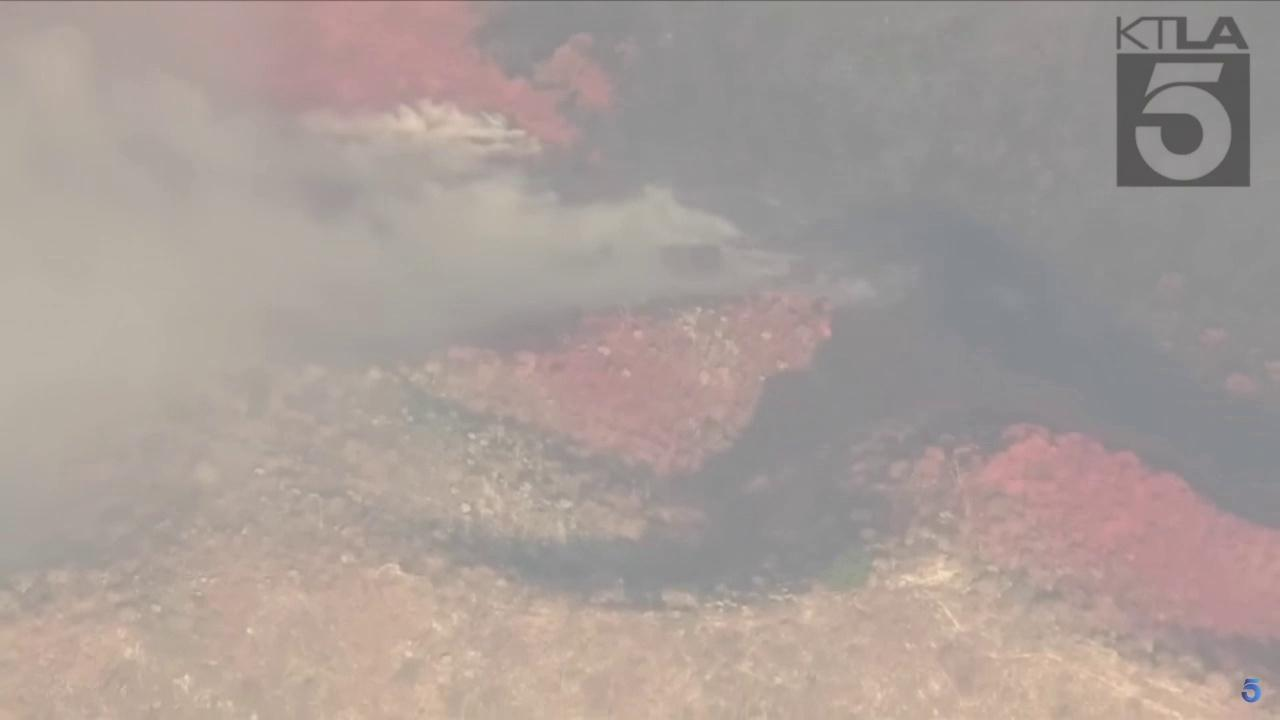smoke: (0, 0, 890, 599)
